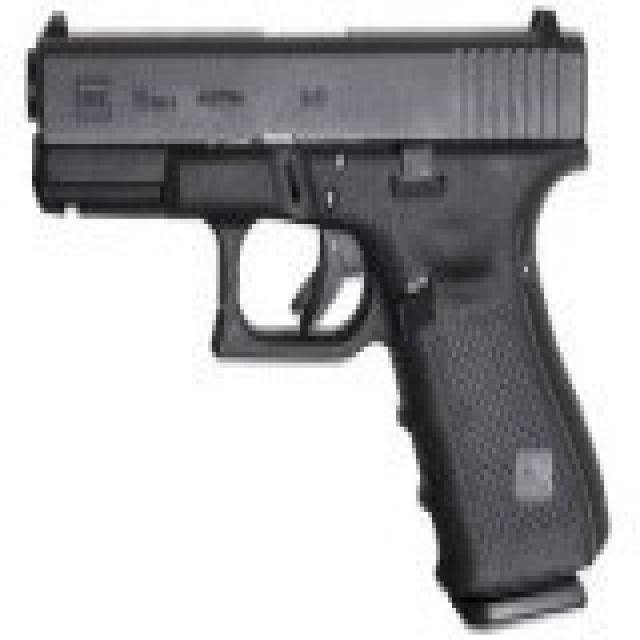Gun: (24, 4, 613, 622)
